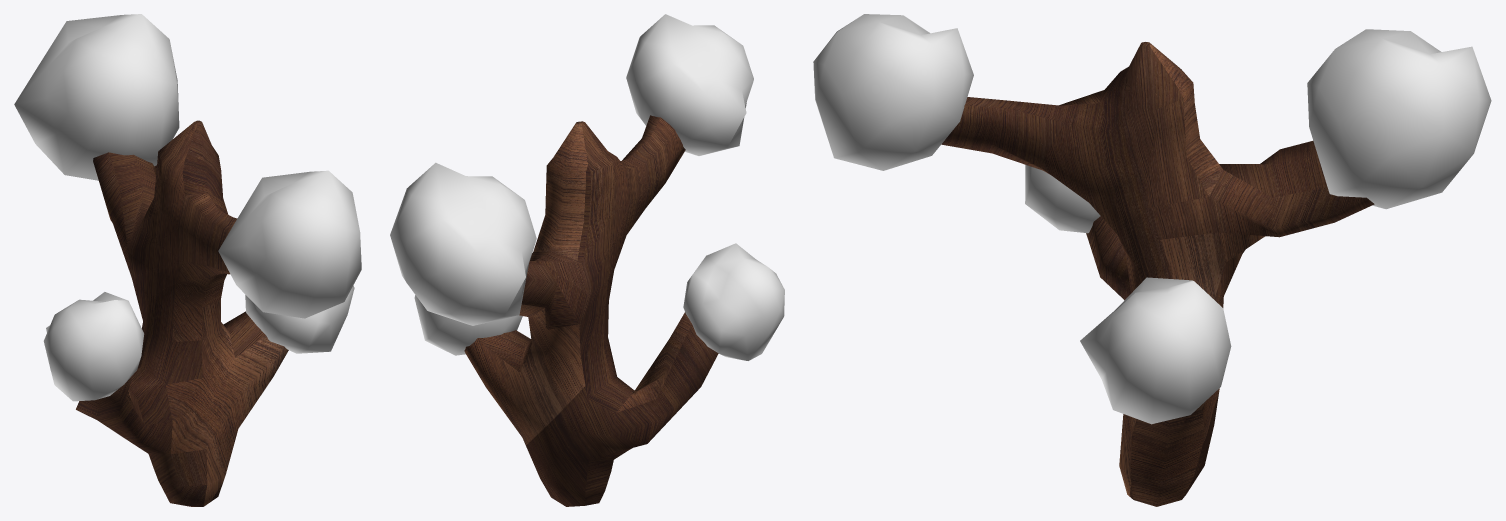
File: SimpleTreeColoured.fbx
The picture shows the model from 3 angles, left to right: view 1: azimuth 30°, elevation 25°; view 2: azimuth 150°, elevation 25°; view 3: azimuth 270°, elevation 25°; orthographic projection. The views are drawn at different scales.
Parts seen in each view (by area): view 1: Icosphere.016; view 2: Icosphere.016; view 3: Icosphere.016.
Boxes of the visible parts, box(x1,y1,x2,y2) form: Icosphere.016: box(14, 14, 361, 506); Icosphere.016: box(390, 14, 784, 506); Icosphere.016: box(813, 14, 1491, 506).
Size of the model in its own units: 207 by 247 by 308.
